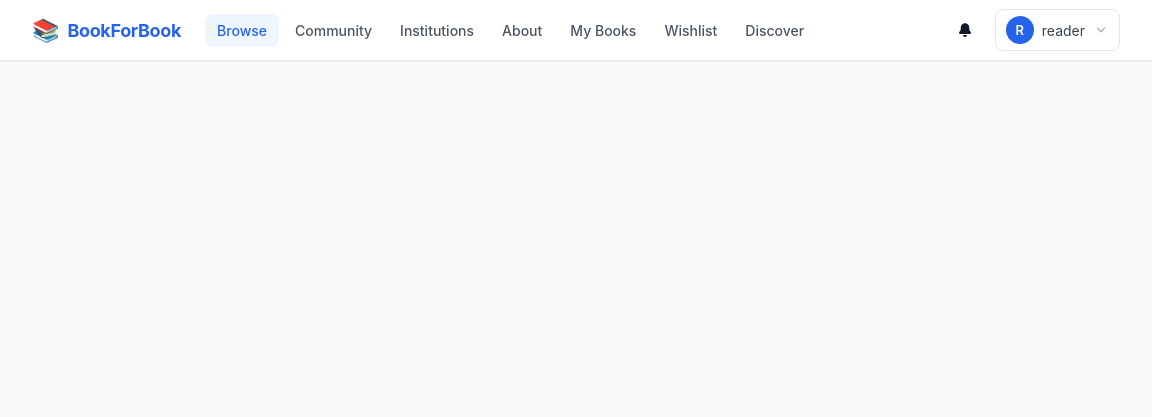
Scenario: Navbar › shows "99+" on pending matches badge when total_pending exceeds 99
Note: The badge lives inside the user dropdown — open it first
Click the button "R reader" at (1057, 30), box [995,9,1120,51]
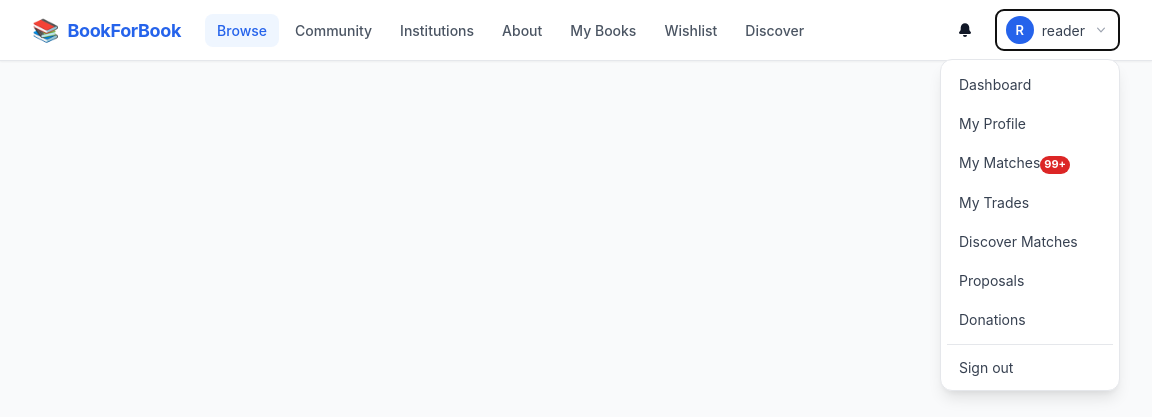
Expected: the text "99+" is shown, [1040,156,1070,174]
